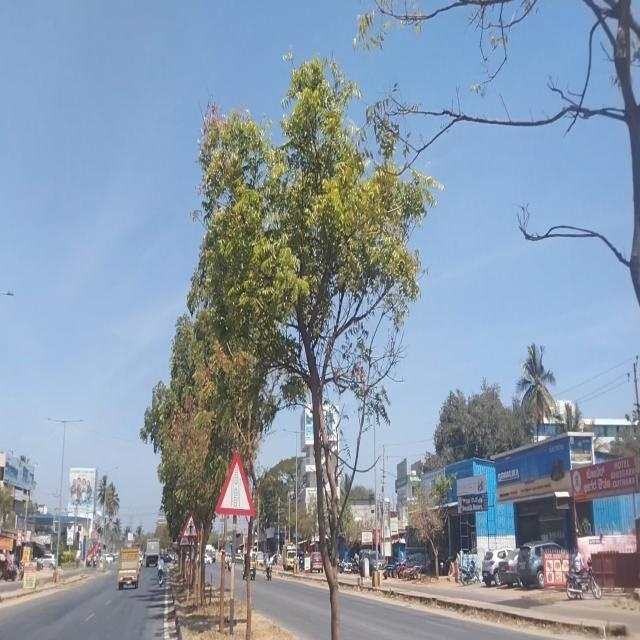bien_nguy_hiem: (215, 452, 255, 517), (182, 511, 198, 539), (178, 530, 191, 549)
